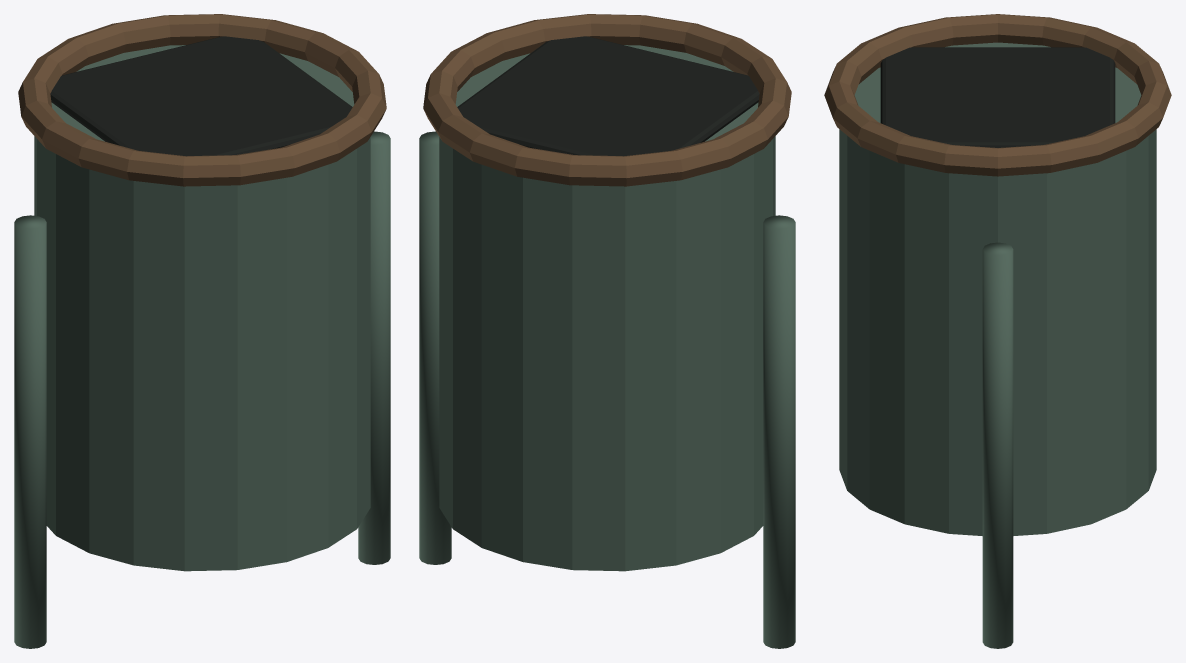
The model's file is SM_District_LitterBin.fbx.
3 views of the same model, side by side, from view 1: azimuth 30°, elevation 25°; view 2: azimuth 150°, elevation 25°; view 3: azimuth 270°, elevation 25° (orthographic). The views are drawn at different scales.
Parts seen in each view (by area): view 1: SM_District_LitterBin; view 2: SM_District_LitterBin; view 3: SM_District_LitterBin.
Part boxes in pixels (box(x1,y1,x2,y2)): SM_District_LitterBin: box(14, 14, 390, 648); SM_District_LitterBin: box(419, 14, 795, 648); SM_District_LitterBin: box(824, 14, 1171, 648).
Size of the model in its own units: 58.4 by 50.4 by 77.2.
